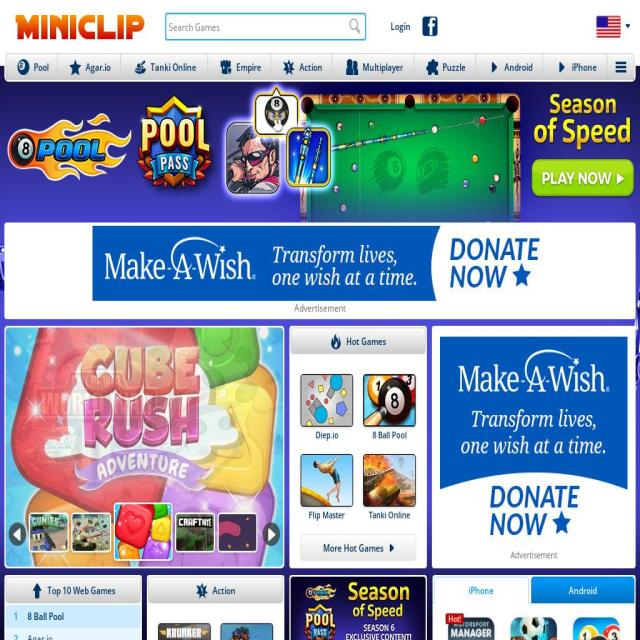button: (6, 328, 283, 566), (363, 374, 416, 444), (363, 454, 416, 524), (301, 374, 353, 444), (301, 454, 353, 524), (290, 328, 426, 354), (5, 577, 140, 603), (148, 577, 283, 603), (300, 534, 416, 561), (5, 605, 140, 628), (532, 577, 634, 603), (434, 577, 528, 603), (120, 53, 208, 80), (332, 53, 414, 80), (475, 53, 543, 80), (542, 53, 607, 80), (57, 53, 120, 80), (208, 53, 270, 80), (270, 53, 332, 80), (414, 53, 475, 80), (5, 629, 140, 640), (6, 53, 56, 80), (445, 617, 498, 640), (507, 617, 560, 640), (570, 617, 623, 640), (594, 13, 636, 40), (158, 623, 211, 640), (221, 623, 273, 640), (607, 53, 634, 80), (390, 13, 410, 40), (422, 13, 438, 40), (346, 15, 364, 38)
field: (166, 13, 366, 40)
heading: (15, 13, 146, 42)
iframe: (440, 337, 628, 545), (92, 226, 548, 301)
image: (6, 328, 283, 566), (290, 576, 425, 640), (73, 514, 128, 563), (300, 374, 352, 425), (300, 454, 352, 505), (364, 374, 414, 425), (364, 454, 414, 505), (30, 514, 68, 551), (176, 514, 214, 551), (134, 514, 171, 551), (219, 514, 256, 551), (448, 617, 495, 640), (510, 617, 557, 640), (573, 617, 620, 640), (158, 623, 210, 640), (220, 623, 272, 640), (594, 13, 622, 40), (10, 528, 26, 542), (264, 528, 280, 542)
text: (441, 549, 627, 562), (363, 427, 416, 444), (363, 507, 416, 524), (301, 427, 353, 444), (301, 507, 353, 524), (294, 301, 346, 316), (26, 609, 64, 623), (6, 609, 26, 624), (25, 631, 52, 640), (445, 614, 464, 624), (5, 631, 25, 640)
